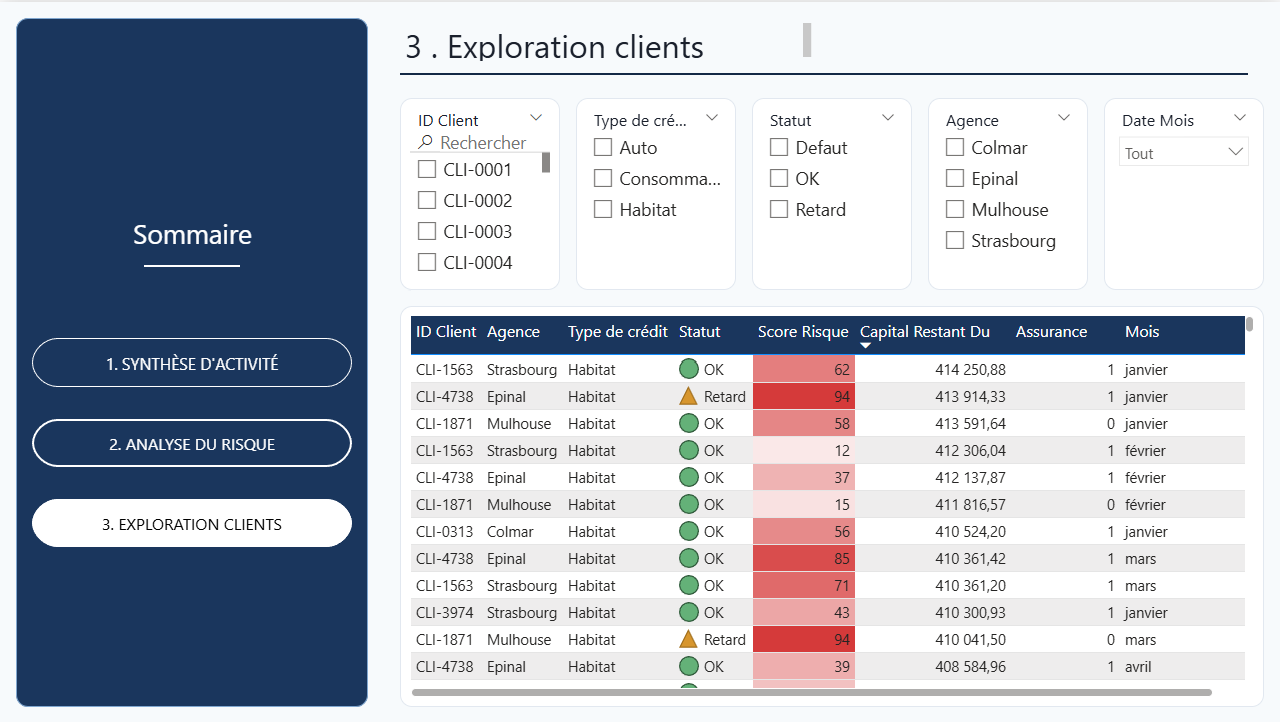

Layout of this report page (visuals, bound fields, positions):
{"tool":"powerbi","page":{"name":"3. Exploration clients","canvas":[1280,720],"ordinal":3},"visuals":[{"type":"shape","box":[16,16,352,688],"z":0},{"type":"shape","box":[400,64,848,16],"z":1000},{"type":"textbox","box":[400,16,416,48],"z":2000},{"type":"actionButton","box":[32,336,320,48],"z":3000},{"type":"actionButton","box":[32,416,320,48],"z":4000},{"type":"actionButton","box":[32,496,320,48],"z":5000},{"type":"shape","box":[144,256,96,16],"z":6000},{"type":"textbox","box":[128,208,144,48],"z":7000},{"type":"tableEx","fields":{"Values":["referentiel_credits.ID Client","referentiel_credits.Agence","referentiel_credits.Type de crédit","suivi_mensuel_credits.Statut","Sum(suivi_mensuel_credits.Score_Risque)","Sum(suivi_mensuel_credits.Capital_Restant_Du)","referentiel_credits.Assurance","suivi_mensuel_credits.Date Mois.Variation.Hiérarchie de dates.Mois"]},"box":[400,304,864,400],"z":8000},{"type":"slicer","fields":{"Values":["referentiel_credits.ID Client"]},"box":[400,96,160,192],"z":9000},{"type":"slicer","fields":{"Values":["referentiel_credits.Type de crédit"]},"box":[576,96,160,192],"z":10000},{"type":"slicer","fields":{"Values":["suivi_mensuel_credits.Statut"]},"box":[752,96,160,192],"z":11000},{"type":"slicer","fields":{"Values":["referentiel_credits.Agence"]},"box":[928,96,160,192],"z":12000},{"type":"slicer","fields":{"Values":["suivi_mensuel_credits.Date_Mois"]},"box":[1104,96,160,192],"z":13000}]}

Visuals, with their boxes in screenshot pixels (x1, y1, x2, y2), scaled from the page's 1280x720 canvas onto the 1280x722 screenshot:
shape: (16,16,368,706)
shape: (400,64,1248,80)
textbox: (400,16,816,64)
actionButton: (32,337,352,385)
actionButton: (32,417,352,465)
actionButton: (32,497,352,546)
shape: (144,257,240,273)
textbox: (128,209,272,257)
tableEx - referentiel_credits.ID Client x referentiel_credits.Agence: (400,305,1264,706)
slicer - referentiel_credits.ID Client: (400,96,560,289)
slicer - referentiel_credits.Type de crédit: (576,96,736,289)
slicer - suivi_mensuel_credits.Statut: (752,96,912,289)
slicer - referentiel_credits.Agence: (928,96,1088,289)
slicer - suivi_mensuel_credits.Date_Mois: (1104,96,1264,289)
